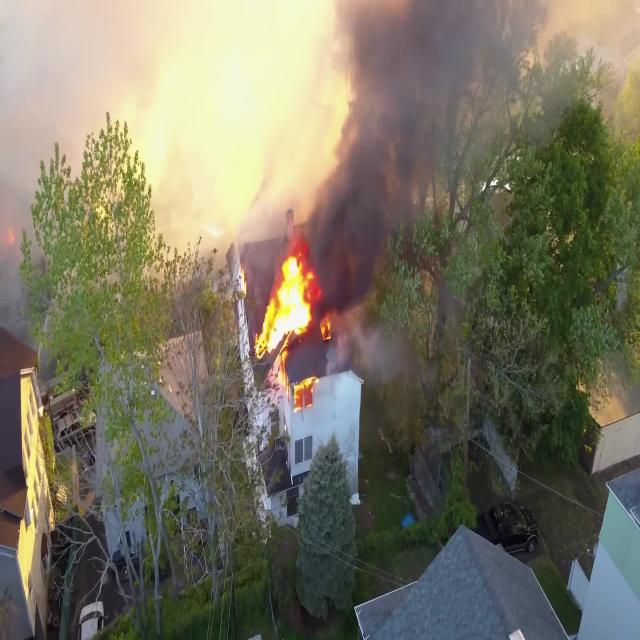Fire: (256, 240, 333, 409)
